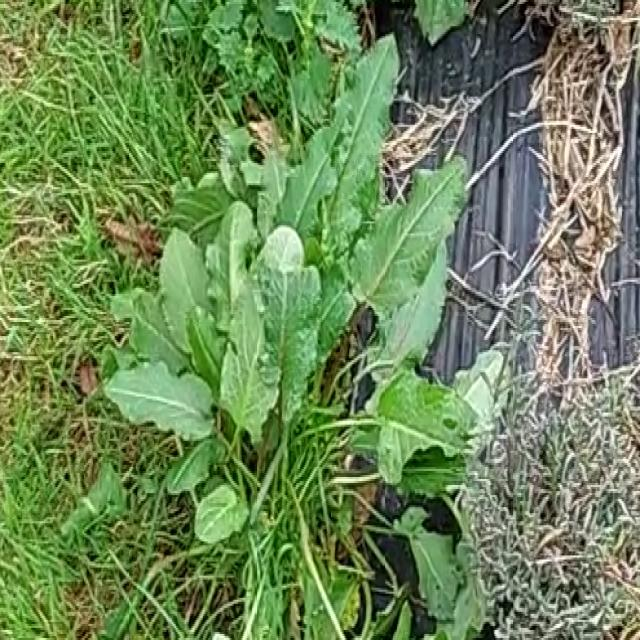organic waste: (114, 70, 477, 606)
